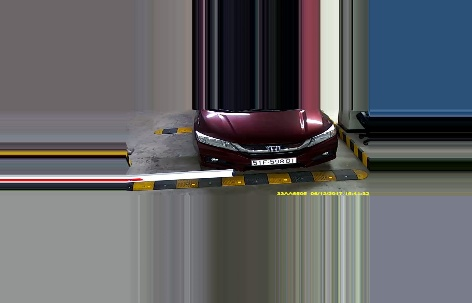plate: (247, 155, 301, 166)
